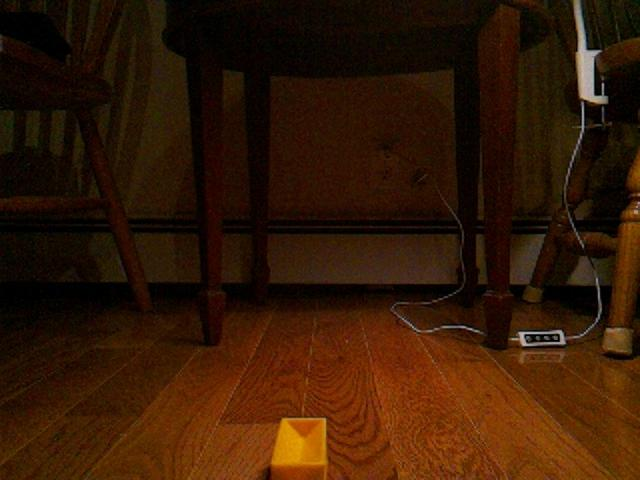yellow: (269, 416, 329, 480)
